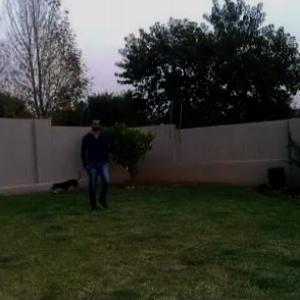follow: (82, 116, 109, 210)
